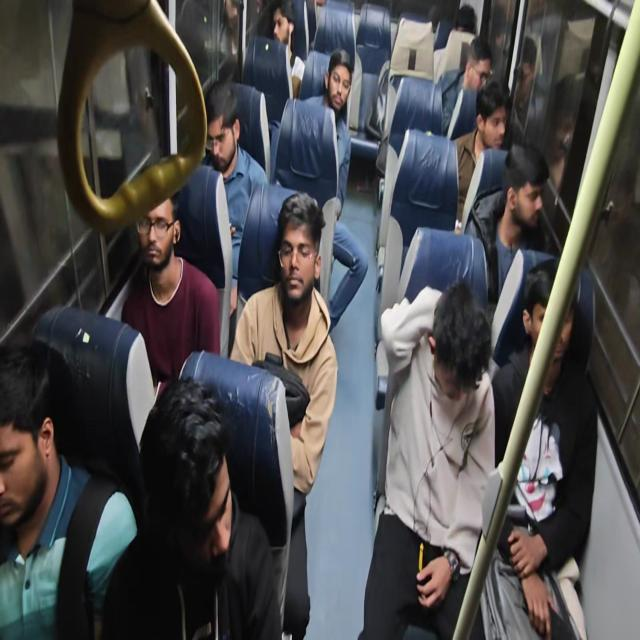person: (147, 352, 261, 598), (0, 365, 89, 566), (194, 86, 286, 248), (428, 262, 493, 456), (126, 176, 198, 302), (527, 284, 576, 382), (264, 209, 304, 307), (463, 36, 510, 114), (316, 51, 368, 118), (266, 0, 315, 71), (426, 0, 481, 46), (523, 190, 556, 255), (486, 85, 514, 147)
